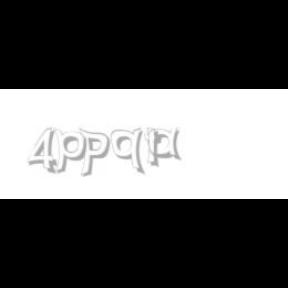4: (26, 128, 58, 174)
P: (78, 128, 110, 178)
a: (148, 128, 186, 160)
p: (54, 128, 90, 174)
q: (110, 128, 146, 176)
t: (144, 128, 166, 168)
